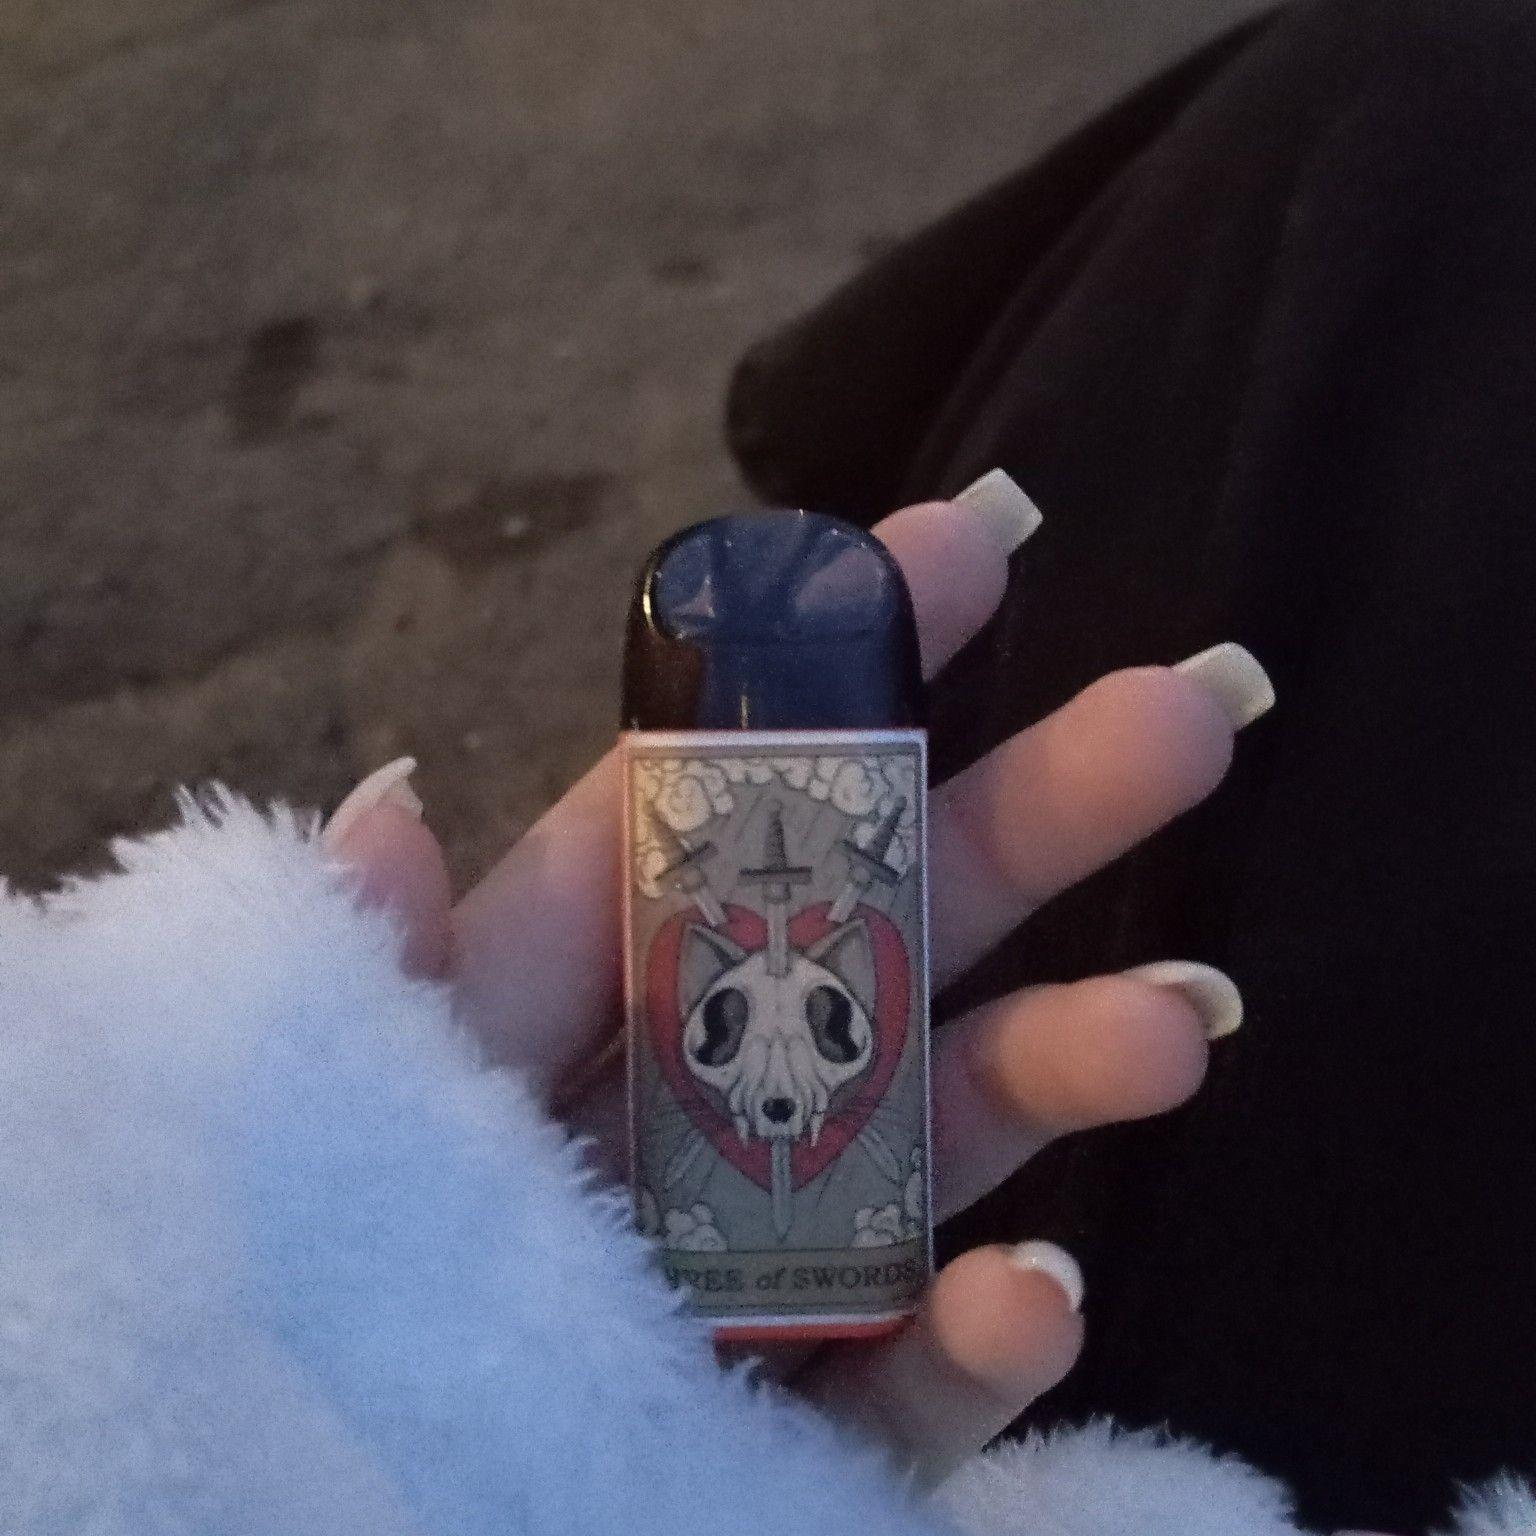Vape: (622, 511, 931, 1345)
